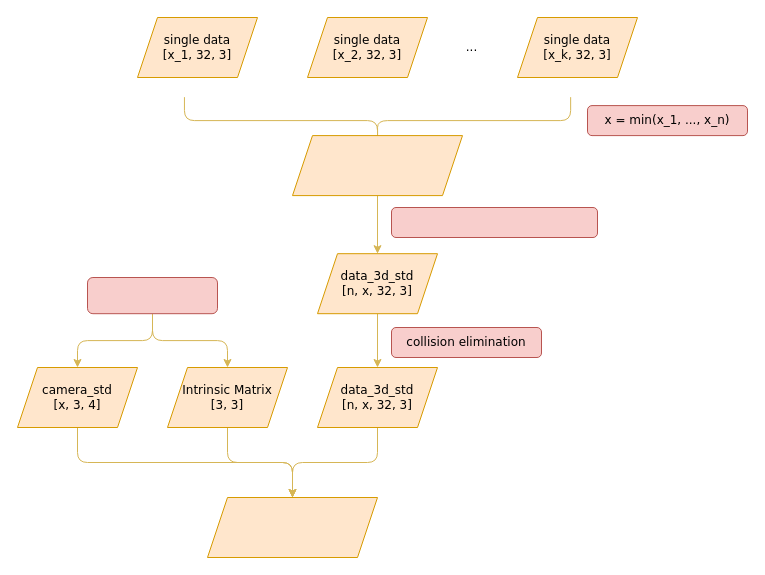
Some shapes in this 765 by 575 pixel diagram are drawn without their labels. The shapes that lost their labels are listed below. From the top down, each one's centre as x and y in pixels, then its label:
At [377,165]: "data_3d_std [n, x, 32, 3(x, y, z)]".
At [494,222]: "random translations/rotations".
At [152,295]: "Camera Generator".
At [292,527]: "data_2d_std [n, x, 32, 3(x, y, k)]".
